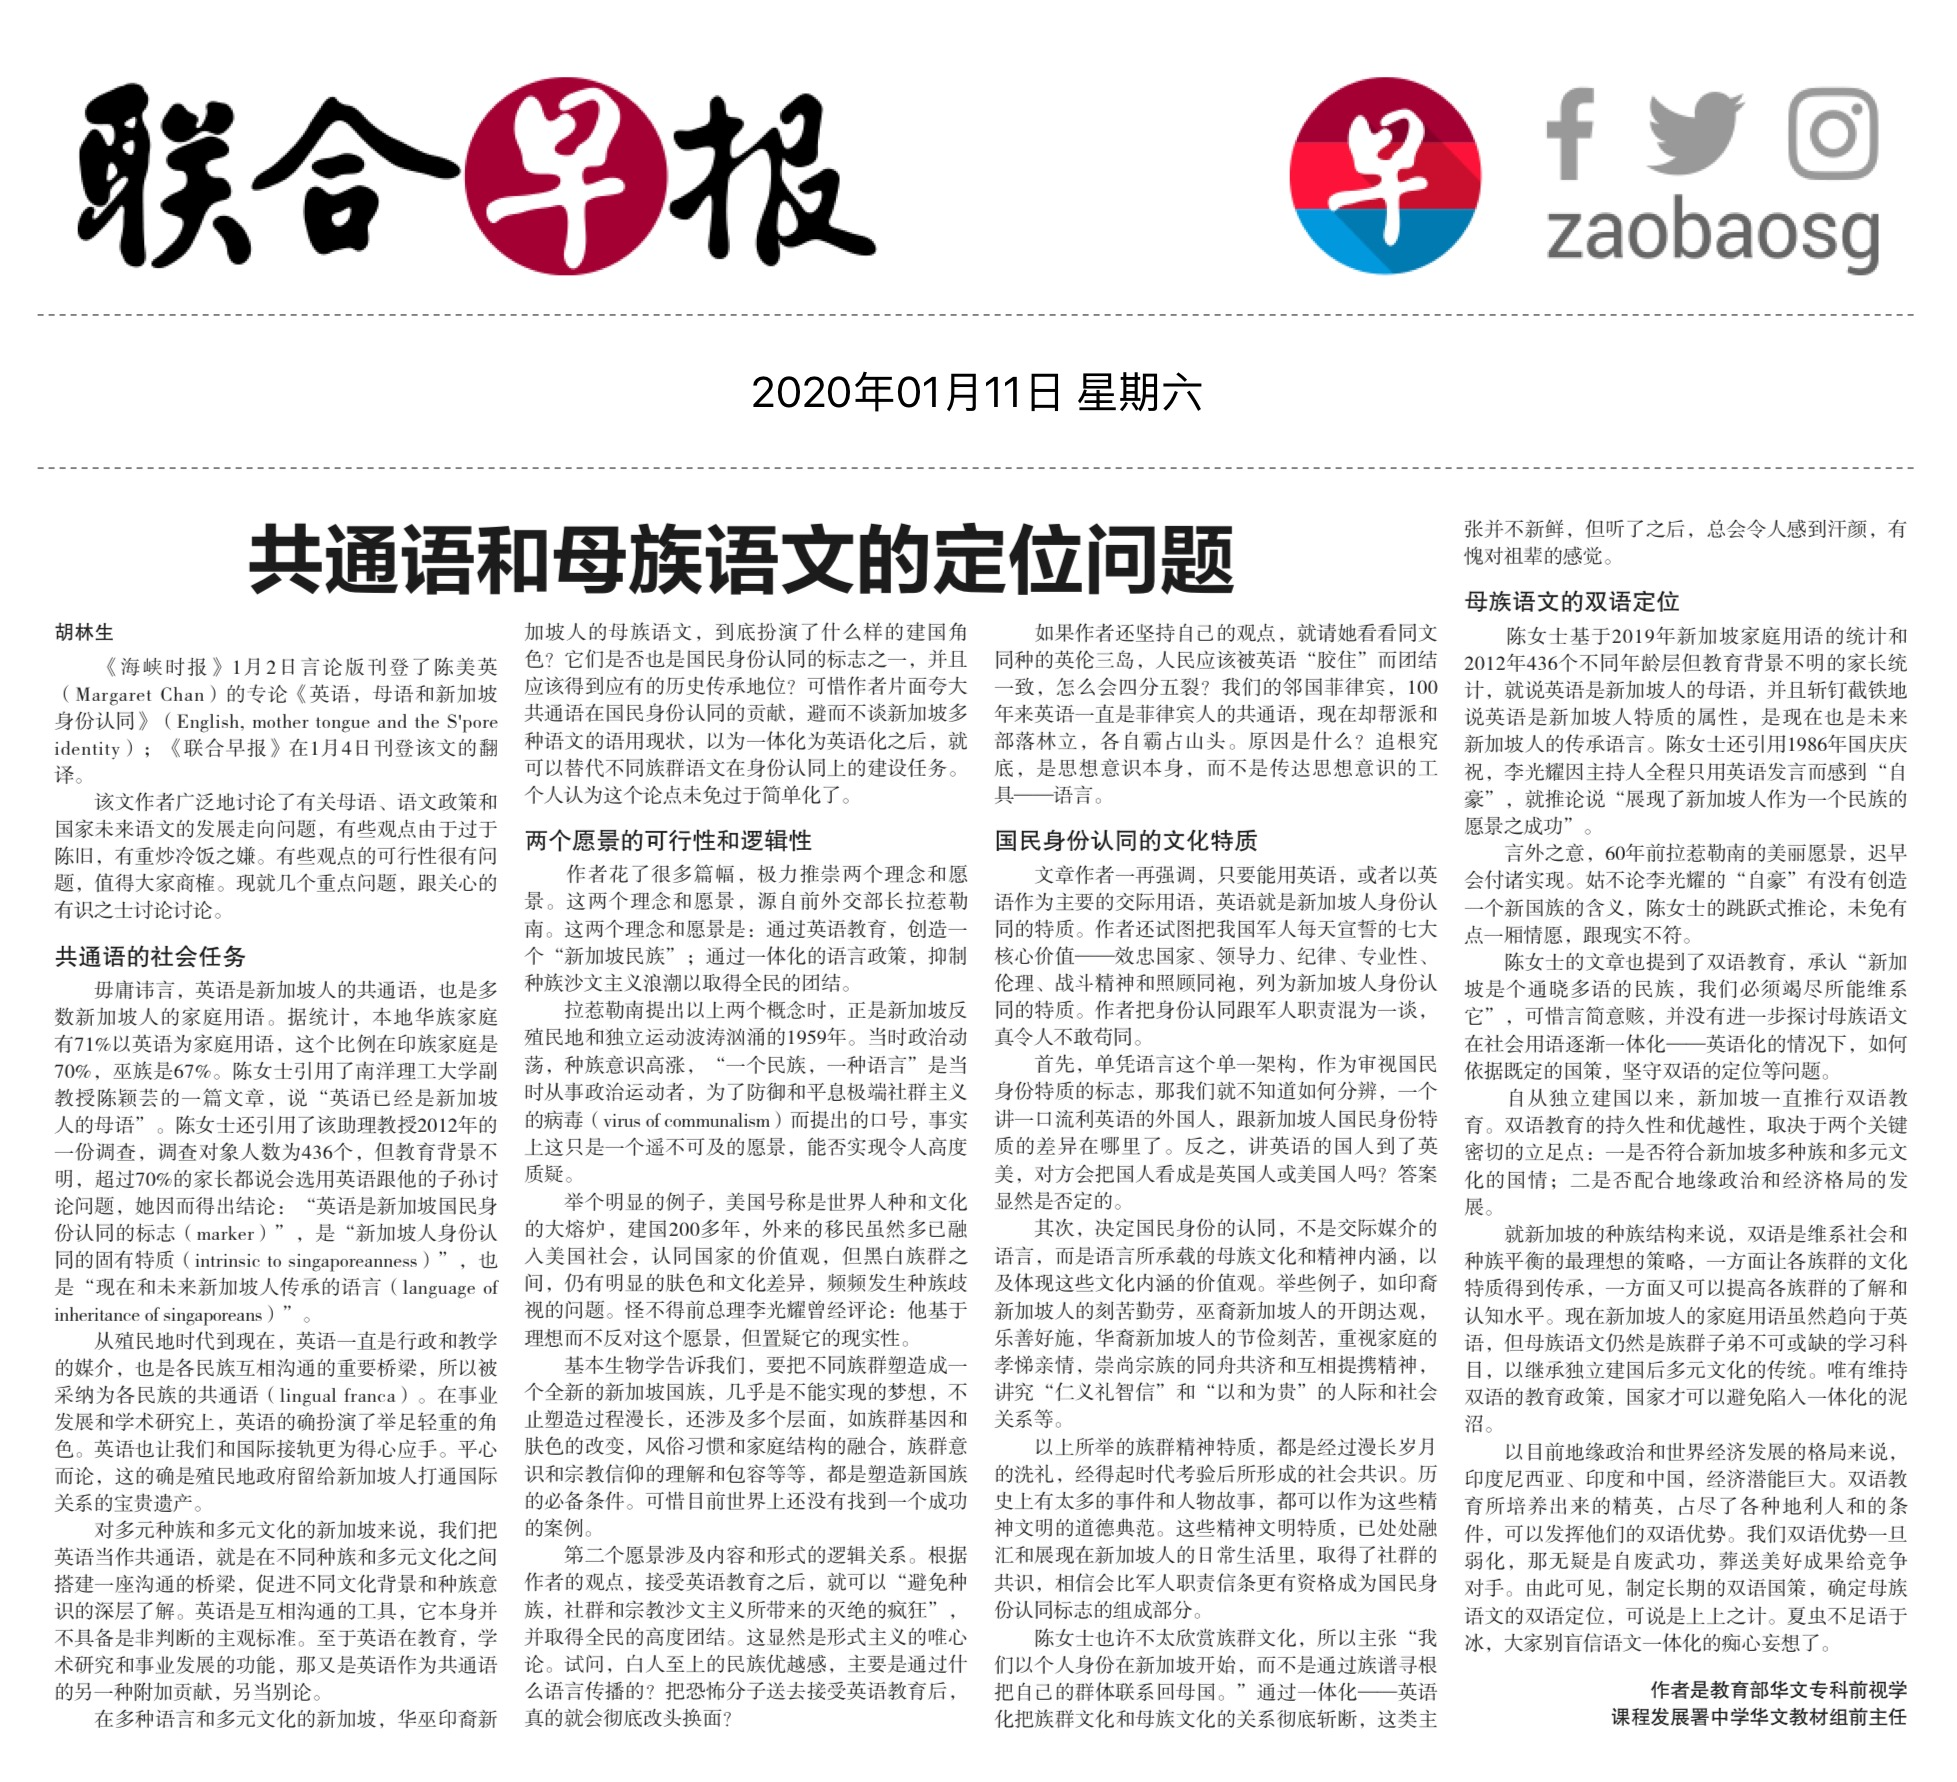heading: (240, 508, 1243, 605)
